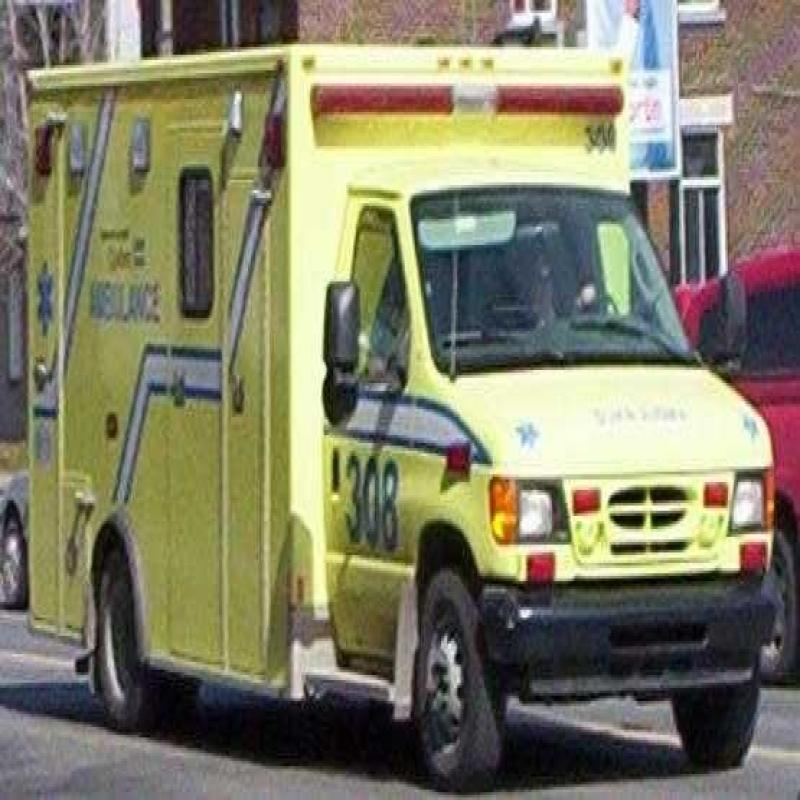AmbulanceSiren: (306, 69, 631, 143)
